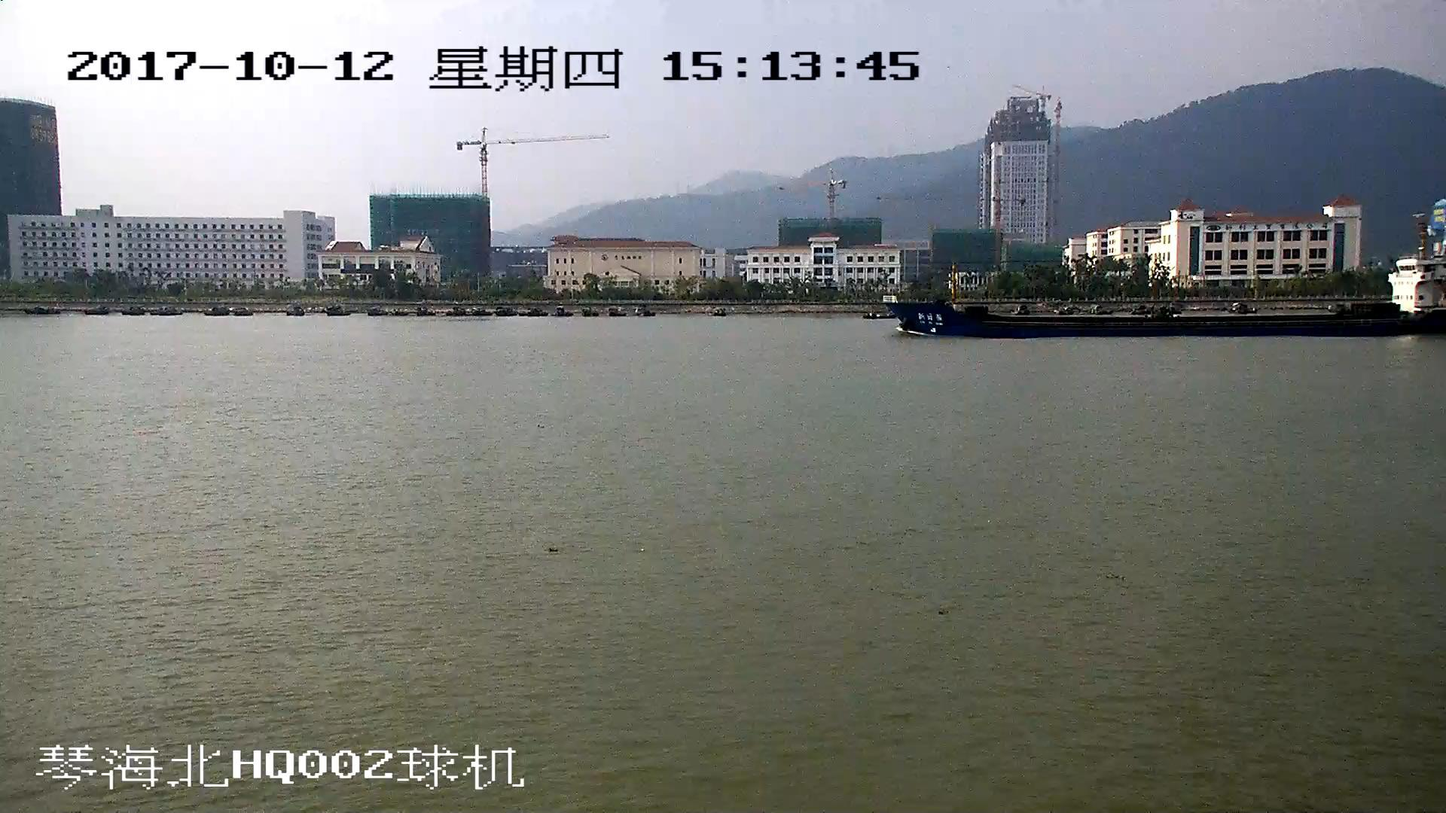general cargo ship: (884, 251, 1445, 334)
